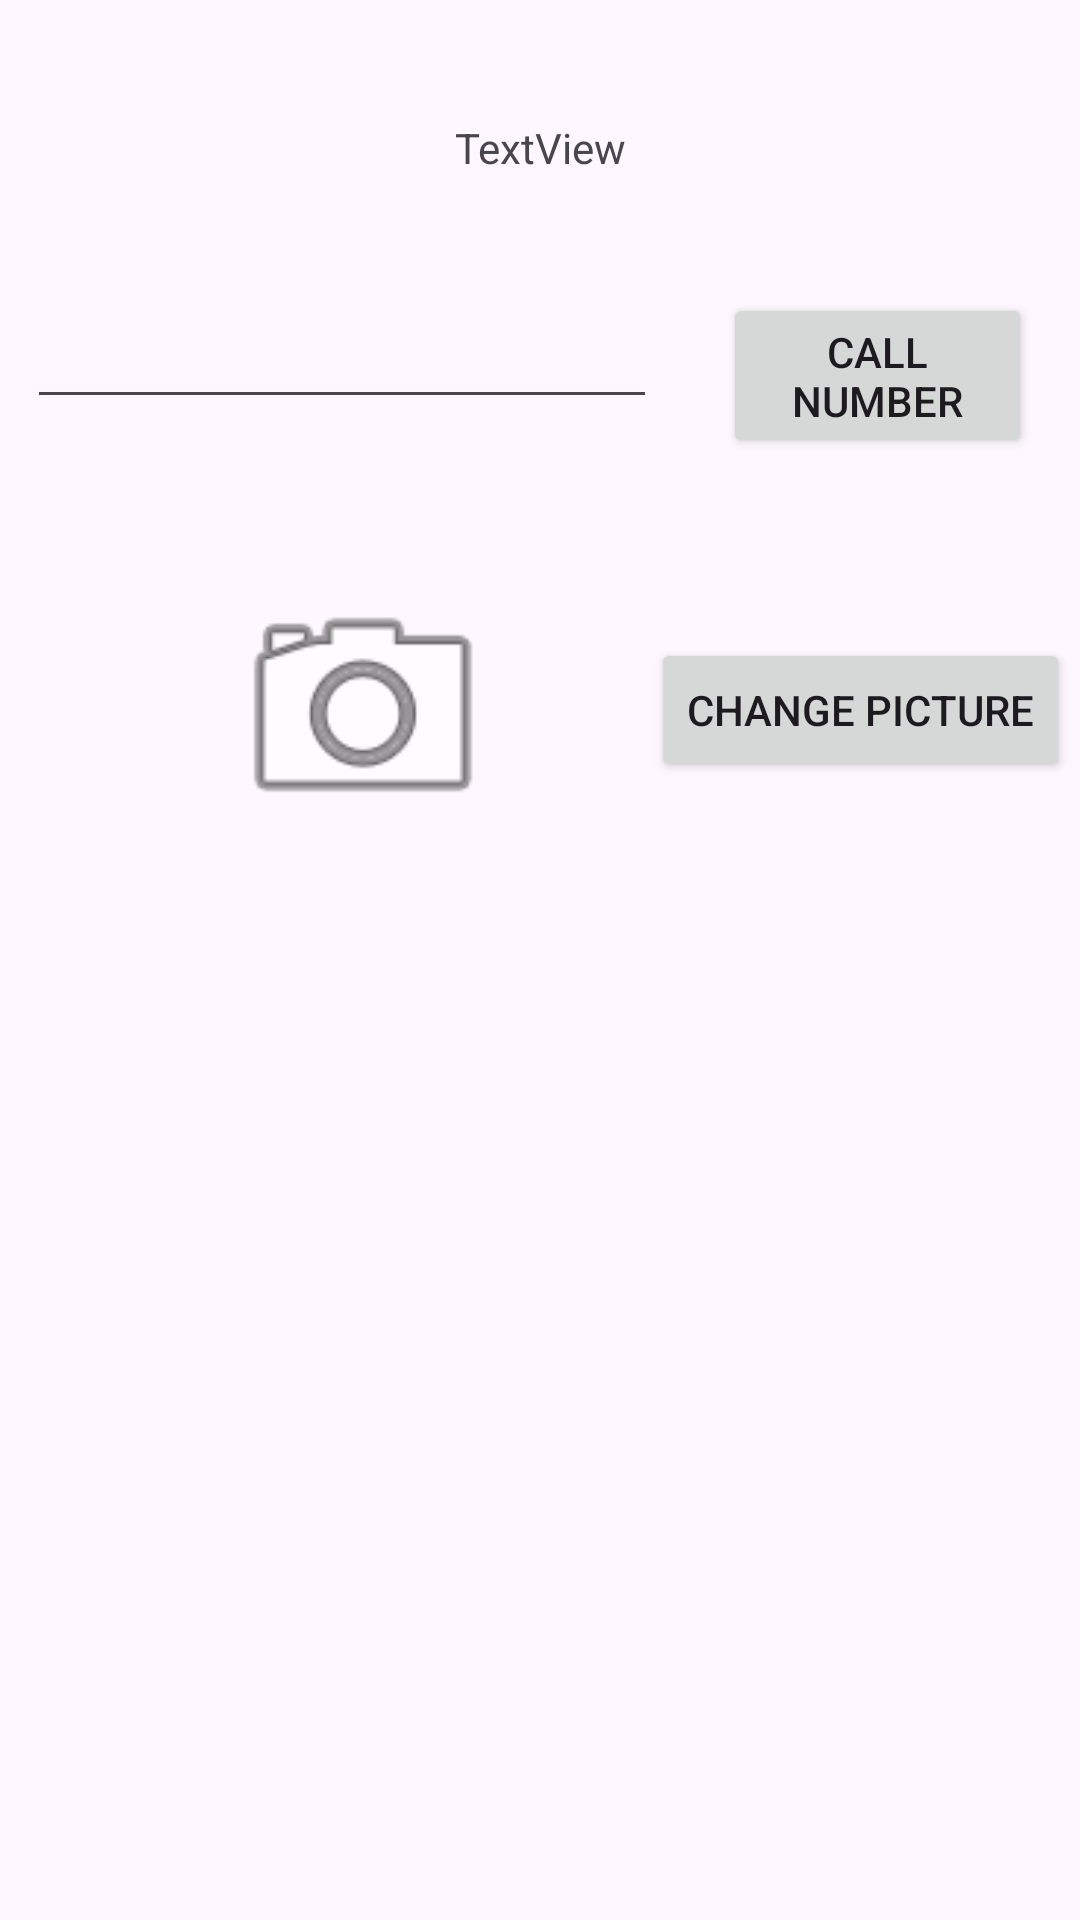

Point at icon controls on the screen. Image size 1080px x 1920px, points as point (x, y).
camera: point (363, 705)
